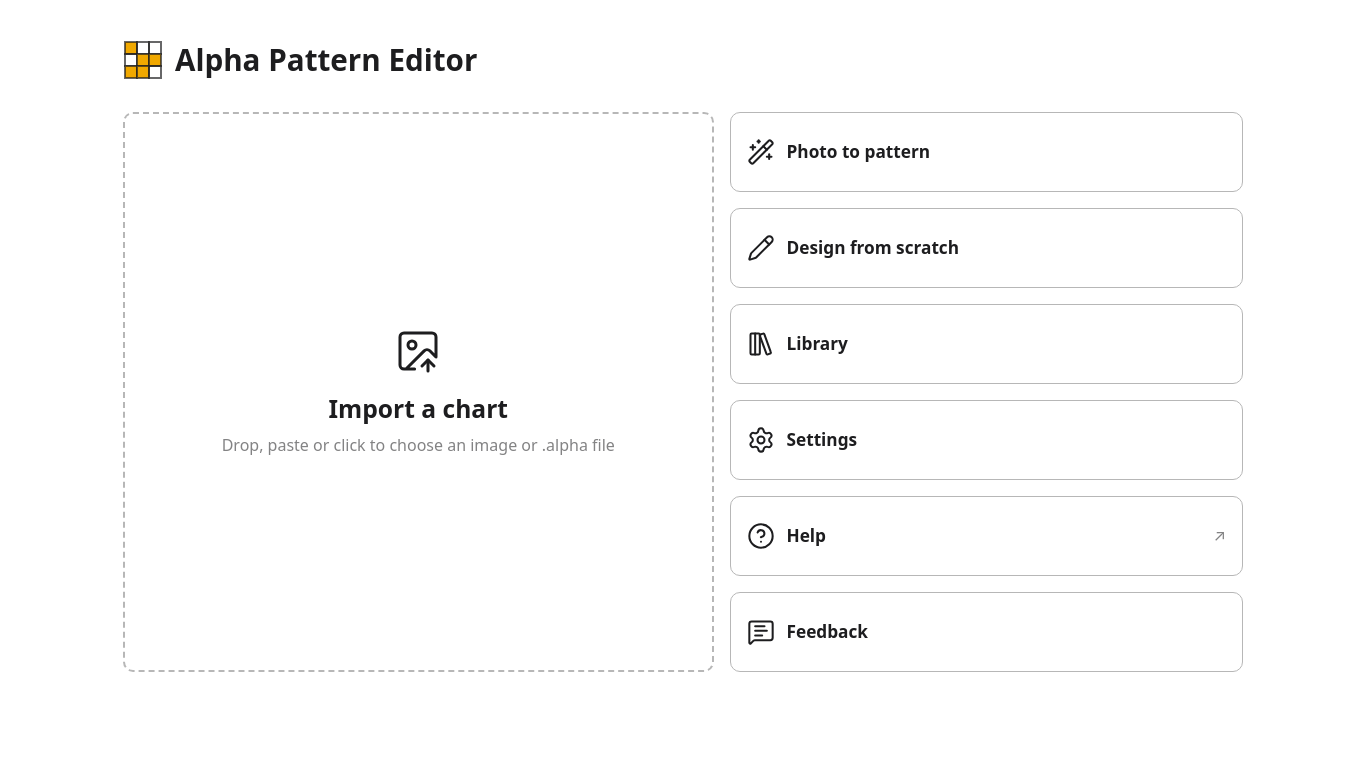
Test: Landing screen › cancels the new-pattern dialog without creating anything
Click the button "Design from scratch" at (873, 247), box [730,208,1243,288]
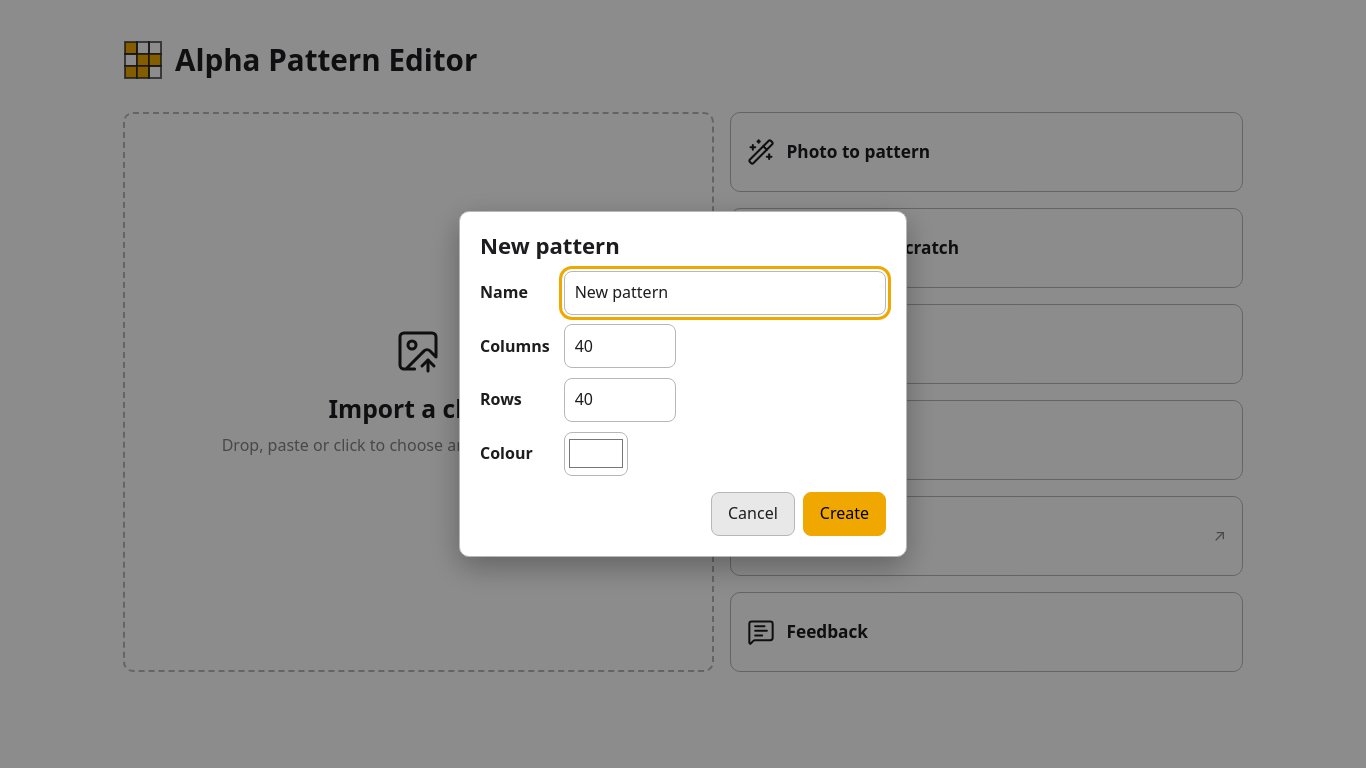
Press Escape
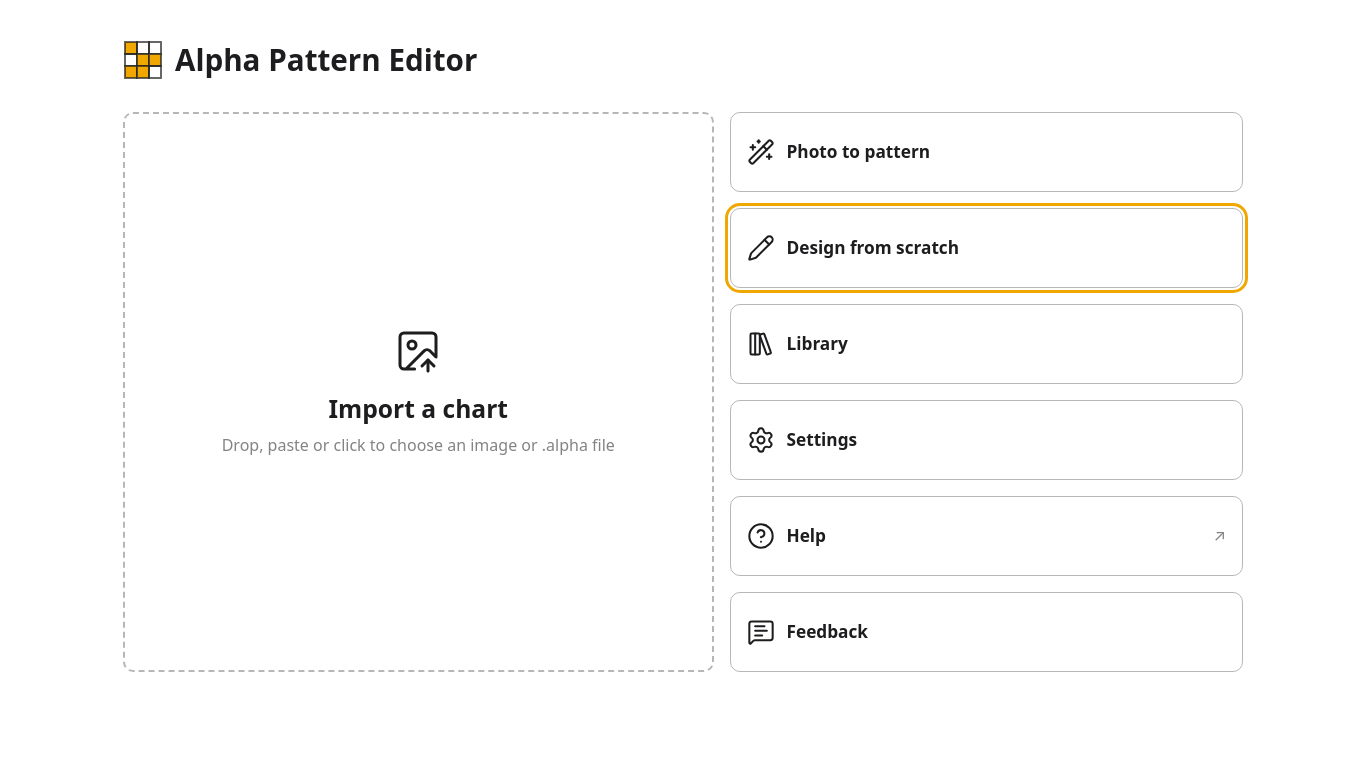
Expected: the dialog is gone
